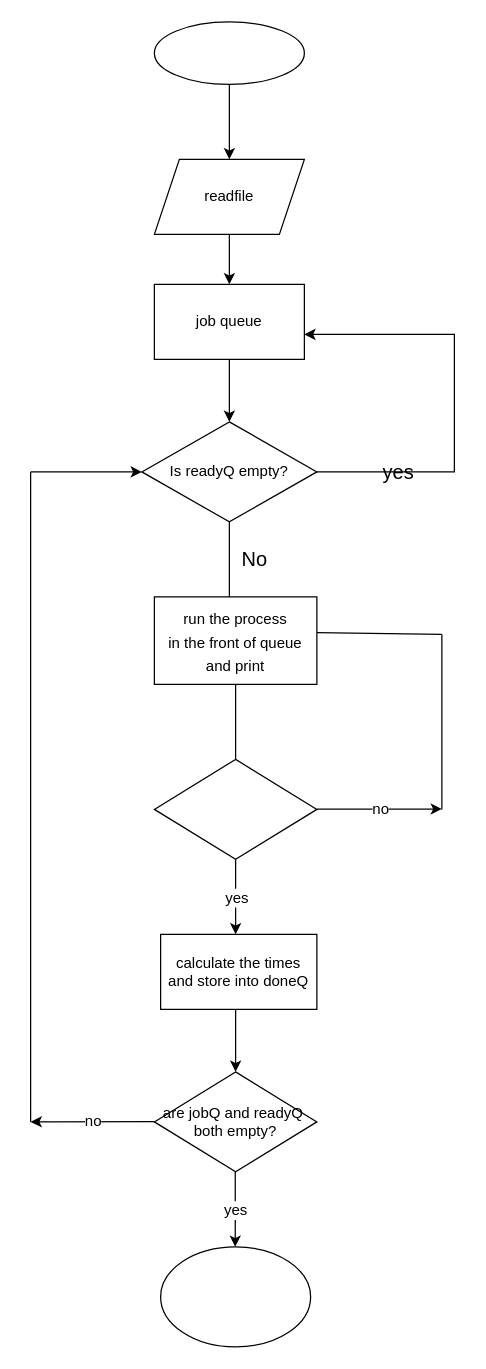
This 486x1369 diagram has some shape labels left out. The box of each missing label's shape, as (x1, y1, x2, y2) in pixels:
end: (159, 1246, 311, 1347)
Is the process finished?: (153, 758, 317, 859)
Start (running with FIFO): (153, 21, 304, 84)
